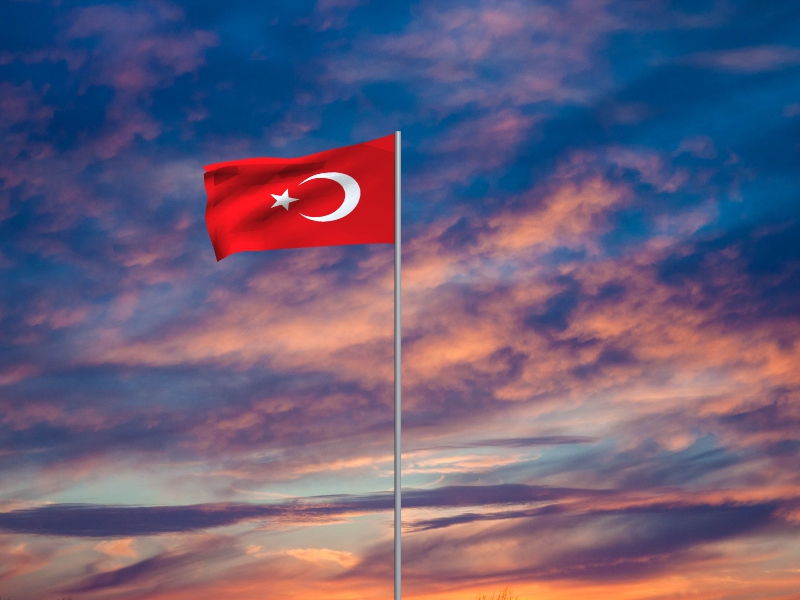tr: (203, 133, 394, 263)
